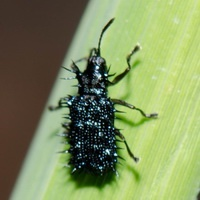insect: (49, 18, 157, 175)
